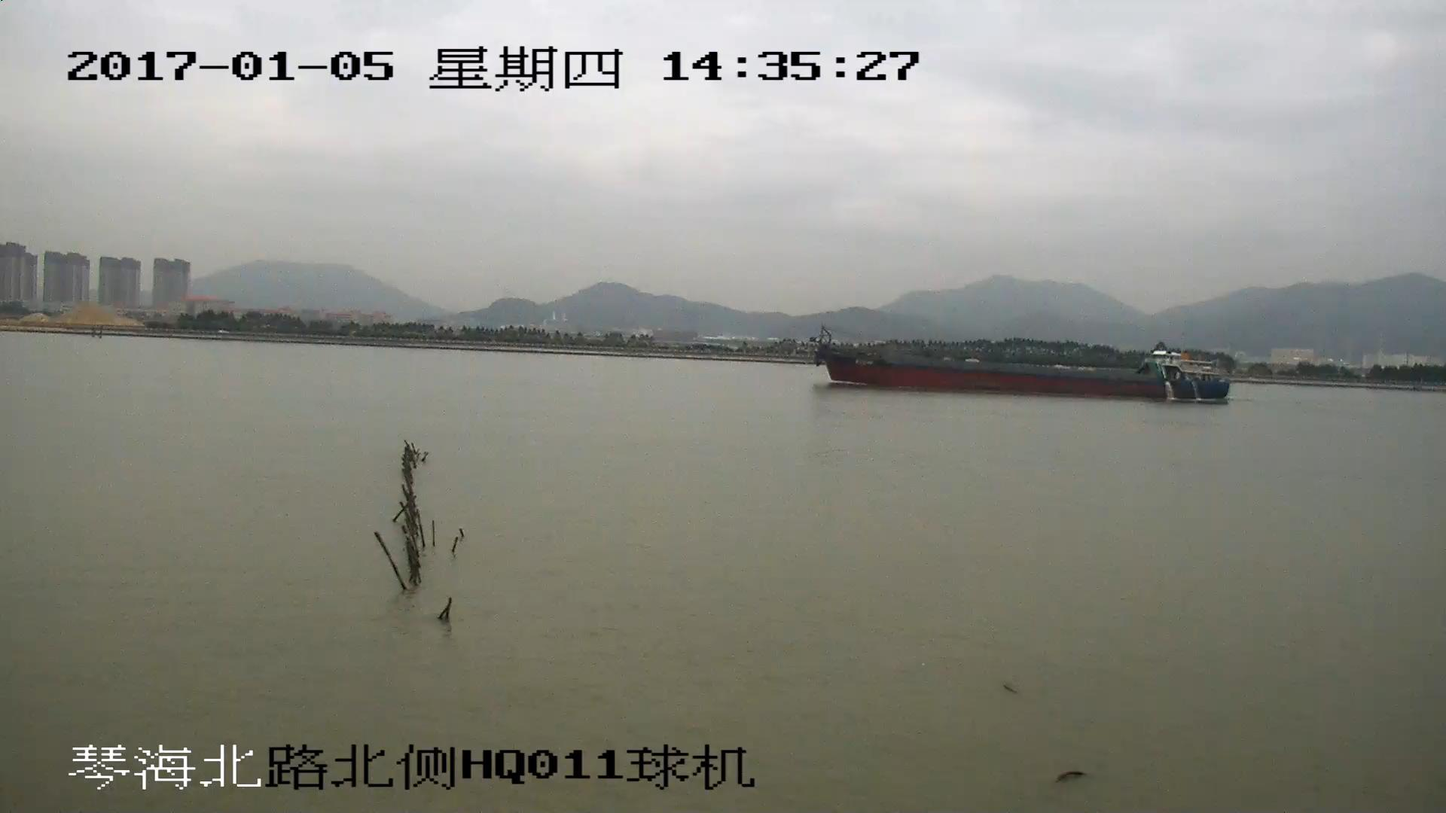bulk cargo carrier: (807, 325, 1228, 402)
